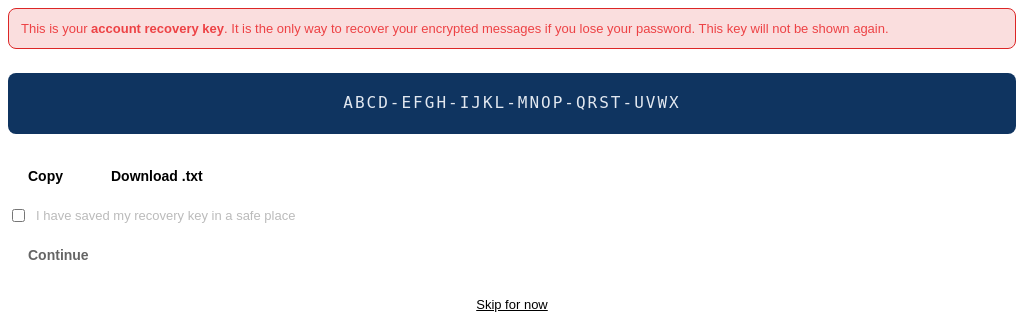
Test: RecoveryKeyDisplay › shows skip warning when "Skip for now" is clicked
Click the button "Skip for now": (512, 302) [476,293,548,312]
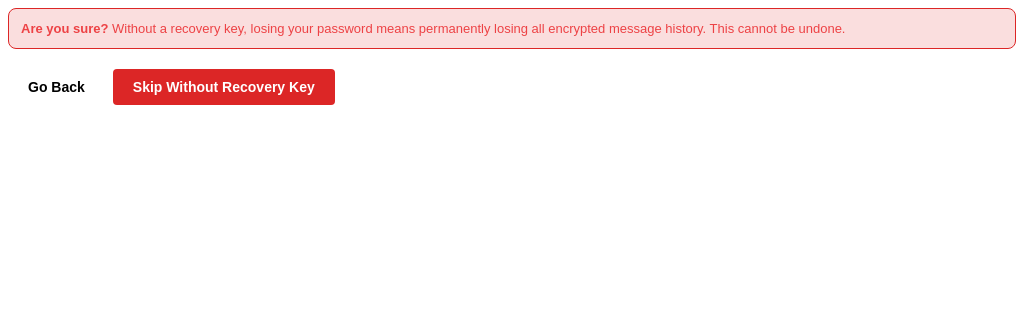
Check: the text "Are you sure?" is shown, box [21,21,108,36]
Check: the text "permanently losing all encrypted" is shown, box [108,21,845,36]
